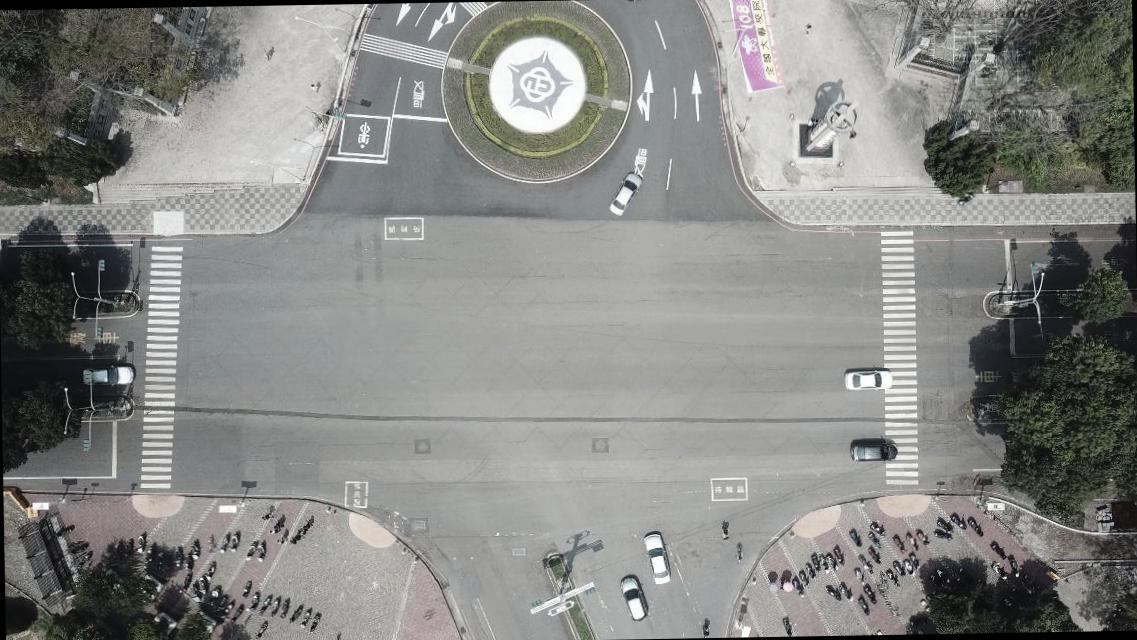vehicle: (640, 528, 672, 586), (618, 572, 650, 624), (607, 170, 642, 217), (82, 362, 136, 387), (847, 438, 898, 464), (842, 367, 893, 392)
